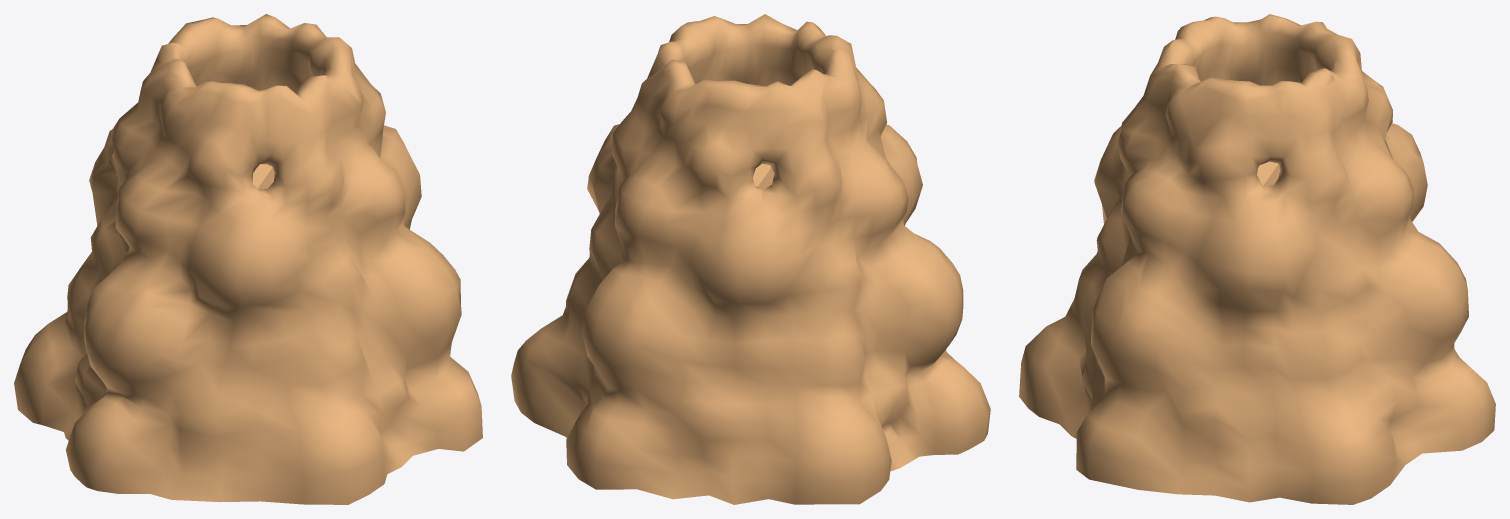
The model's file is MSH_SGLT2.fbx.
The picture shows the model from 3 angles, left to right: view 1: azimuth 30°, elevation 25°; view 2: azimuth 150°, elevation 25°; view 3: azimuth 270°, elevation 25°; orthographic projection.
Parts seen in each view (by area): view 1: MSH_SGLT2; view 2: MSH_SGLT2; view 3: MSH_SGLT2.
Boxes of the visible parts, box(x1,y1,x2,y2) form: MSH_SGLT2: box(14, 14, 482, 504); MSH_SGLT2: box(511, 14, 990, 504); MSH_SGLT2: box(1019, 14, 1495, 504).
Bounding box in the file's own units: 0.501 × 0.521 × 0.443.
